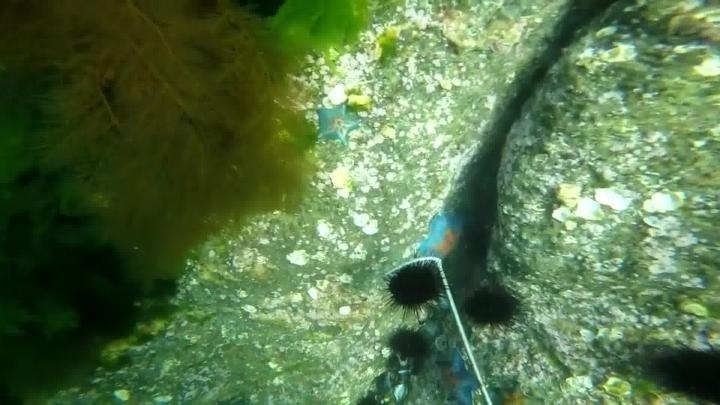echinus: (653, 341, 720, 402), (382, 259, 447, 317), (461, 283, 524, 331), (385, 325, 433, 363)
starfish: (415, 210, 471, 267), (431, 346, 481, 404), (313, 102, 363, 147), (487, 379, 545, 403)
